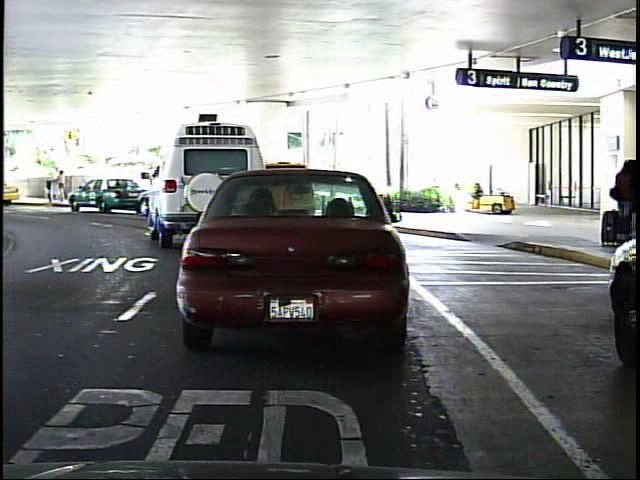person: (52, 162, 65, 202), (56, 166, 70, 203)
